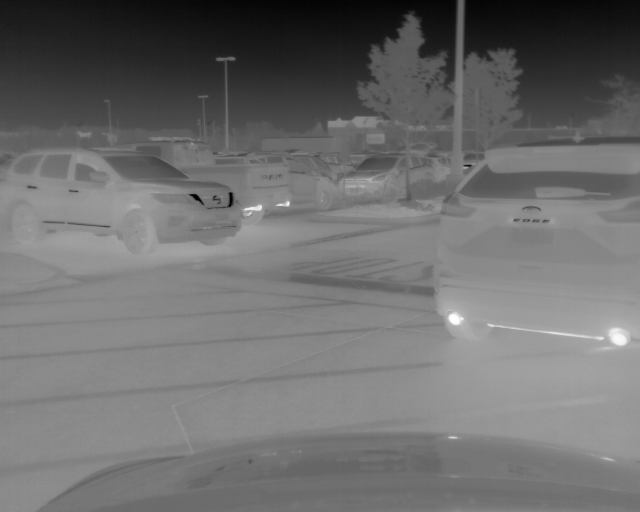car: (433, 136, 640, 347), (1, 145, 244, 252), (135, 141, 289, 225), (220, 154, 338, 219), (340, 153, 441, 204), (460, 151, 484, 171)
